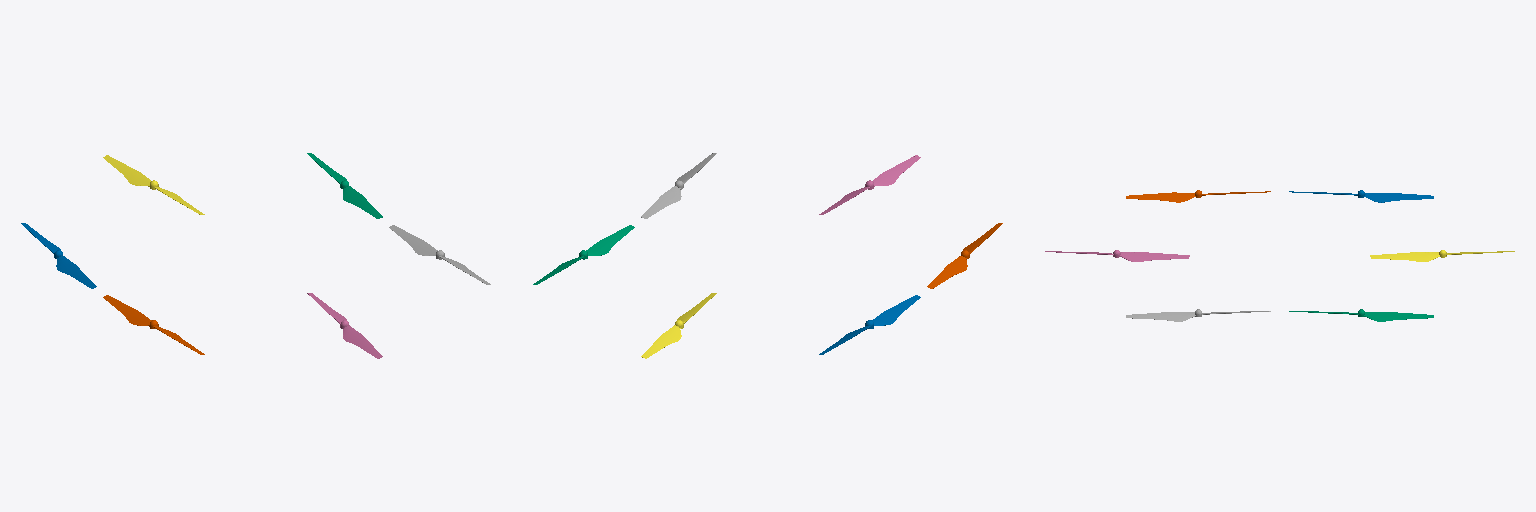
robot.urdf — tyrion:
<?xml version="1.0" ?>
<!-- =================================================================================== -->
<!-- |    This document was autogenerated by xacro from tyrion.xacro                   | -->
<!-- |    EDITING THIS FILE BY HAND IS NOT RECOMMENDED                                 | -->
<!-- =================================================================================== -->
<!--
  Copyright 2015 Fadri Furrer, ASL, ETH Zurich, Switzerland
  Copyright 2015 Michael Burri, ASL, ETH Zurich, Switzerland
  Copyright 2015 Mina Kamel, ASL, ETH Zurich, Switzerland
  Copyright 2015 Janosch Nikolic, ASL, ETH Zurich, Switzerland
  Copyright 2015 Markus Achtelik, ASL, ETH Zurich, Switzerland

  Licensed under the Apache License, Version 2.0 (the "License");
  you may not use this file except in compliance with the License.
  You may obtain a copy of the License at

  http://www.apache.org/licenses/LICENSE-2.0

  Unless required by applicable law or agreed to in writing, software
  distributed under the License is distributed on an "AS IS" BASIS,
  WITHOUT WARRANTIES OR CONDITIONS OF ANY KIND, either express or implied.
  See the License for the specific language governing permissions and
  limitations under the License.
-->
<robot name="tyrion">
  <!-- [kg] -->
  <!-- [m] JDS: original value="0.16"-->
  <!-- [kg] JDS: original value="0.005" -->
  <!-- [m] JDS: original value="0.215" -->
  <!-- [m] -->
  <!-- [rad/s] -->
  <link name="tyrion/base_link"/>
  <joint name="tyrion/base_joint" type="fixed">
    <origin rpy="0 0 0" xyz="0 0 0"/>
    <parent link="tyrion/base_link"/>
    <child link="tyrion/base_link_inertia"/>
  </joint>
  <link name="tyrion/base_link_inertia">
    <inertial>
      <mass value="1.5"/>
      <!-- [kg] -->
      <origin xyz="0 0 0"/>
      <inertia ixx="0.0347563" ixy="0.0" ixz="0.0" iyy="0.0458929" iyz="0.0" izz="0.0977"/>
    </inertial>
    <visual>
      <origin rpy="0 0 0" xyz="0 0 0"/>
      <geometry>
        <mesh filename="package://rotors_description/meshes/tyrion.dae" scale="1 1 1"/>
      </geometry>
    </visual>
    <collision>
      <origin rpy="0 0 0" xyz="0 0 0"/>
      <geometry>
        <box size="0.5 0.5 0.35"/>
        <!-- [m] [m] [m] JDS: original "${body_width} ${body_width} ${body_height}" -->
      </geometry>
    </collision>
  </link>
  <!-- attach multirotor_base_plugin to the base_link -->
  <gazebo>
    <plugin filename="librotors_gazebo_multirotor_base_plugin.so" name="multirotor_base_plugin">
      <robotNamespace>tyrion</robotNamespace>
      <linkName>tyrion/base_link</linkName>
      <rotorVelocitySlowdownSim>10</rotorVelocitySlowdownSim>
    </plugin>
  </gazebo>
  <joint name="tyrion/rotor_0_joint" type="continuous">
    <origin rpy="0 0 0" xyz="0.243353138463304 0.1405 0.05"/>
    <axis xyz="0 0 1"/>
    <!-- TODO(ff): not currently set because it's not yet supported -->
    <!-- <limit effort="2000" velocity="${max_rot_velocity}" /> -->
    <parent link="tyrion/base_link"/>
    <child link="tyrion/rotor_0"/>
  </joint>
  <link name="tyrion/rotor_0">
    <inertial>
      <mass value="0.0054"/>
      <!-- [kg] -->
      <inertia ixx="1.0529995788000002e-06" ixy="0.0" ixz="0.0" iyy="4.5040481983800015e-05" iyz="0.0" izz="4.601248159500002e-05"/>
    </inertial>
    <visual>
      <geometry>
        <mesh filename="package://rotors_description/meshes/propeller_ccw.dae" scale="0.1 0.1 0.1"/>
        <!-- The propeller meshes have a radius of 1m -->
        <!-- <box size="${2*radius_rotor} 0.01 0.005"/> -->
      </geometry>
    </visual>
    <collision>
      <geometry>
        <cylinder length="0.005" radius="0.1"/>
        <!-- [m] -->
      </geometry>
    </collision>
  </link>
  <gazebo>
    <plugin filename="librotors_gazebo_motor_model.so" name="tyrion_front_left_motor_model">
      <robotNamespace>tyrion</robotNamespace>
      <jointName>tyrion/rotor_0_joint</jointName>
      <linkName>tyrion/rotor_0</linkName>
      <turningDirection>ccw</turningDirection>
      <timeConstantUp>0.0125</timeConstantUp>
      <timeConstantDown>0.025</timeConstantDown>
      <maxRotVelocity>838</maxRotVelocity>
      <motorConstant>8.54858e-06</motorConstant>
      <momentConstant>0.016</momentConstant>
      <commandSubTopic>gazebo/command/motor_speed</commandSubTopic>
      <motorNumber>0</motorNumber>
      <rotorDragCoefficient>8.06428e-05</rotorDragCoefficient>
      <rollingMomentCoefficient>1e-06</rollingMomentCoefficient>
      <motorSpeedPubTopic>motor_speed/0</motorSpeedPubTopic>
      <rotorVelocitySlowdownSim>10</rotorVelocitySlowdownSim>
    </plugin>
  </gazebo>
  <gazebo reference="tyrion/rotor_0">
    <material>Gazebo/Red</material>
  </gazebo>
  <joint name="tyrion/rotor_1_joint" type="continuous">
    <origin rpy="0 0 0" xyz="0 0.281 0.05"/>
    <axis xyz="0 0 1"/>
    <!-- TODO(ff): not currently set because it's not yet supported -->
    <!-- <limit effort="2000" velocity="${max_rot_velocity}" /> -->
    <parent link="tyrion/base_link"/>
    <child link="tyrion/rotor_1"/>
  </joint>
  <link name="tyrion/rotor_1">
    <inertial>
      <mass value="0.0054"/>
      <!-- [kg] -->
      <inertia ixx="1.0529995788000002e-06" ixy="0.0" ixz="0.0" iyy="4.5040481983800015e-05" iyz="0.0" izz="4.601248159500002e-05"/>
    </inertial>
    <visual>
      <geometry>
        <mesh filename="package://rotors_description/meshes/propeller_cw.dae" scale="0.1 0.1 0.1"/>
        <!-- The propeller meshes have a radius of 1m -->
        <!-- <box size="${2*radius_rotor} 0.01 0.005"/> -->
      </geometry>
    </visual>
    <collision>
      <geometry>
        <cylinder length="0.005" radius="0.1"/>
        <!-- [m] -->
      </geometry>
    </collision>
  </link>
  <gazebo>
    <plugin filename="librotors_gazebo_motor_model.so" name="tyrion_left_motor_model">
      <robotNamespace>tyrion</robotNamespace>
      <jointName>tyrion/rotor_1_joint</jointName>
      <linkName>tyrion/rotor_1</linkName>
      <turningDirection>cw</turningDirection>
      <timeConstantUp>0.0125</timeConstantUp>
      <timeConstantDown>0.025</timeConstantDown>
      <maxRotVelocity>838</maxRotVelocity>
      <motorConstant>8.54858e-06</motorConstant>
      <momentConstant>0.016</momentConstant>
      <commandSubTopic>gazebo/command/motor_speed</commandSubTopic>
      <motorNumber>1</motorNumber>
      <rotorDragCoefficient>8.06428e-05</rotorDragCoefficient>
      <rollingMomentCoefficient>1e-06</rollingMomentCoefficient>
      <motorSpeedPubTopic>motor_speed/1</motorSpeedPubTopic>
      <rotorVelocitySlowdownSim>10</rotorVelocitySlowdownSim>
    </plugin>
  </gazebo>
  <gazebo reference="tyrion/rotor_1">
    <material>Gazebo/Blue</material>
  </gazebo>
  <joint name="tyrion/rotor_2_joint" type="continuous">
    <origin rpy="0 0 0" xyz="-0.243353138463304 0.1405 0.05"/>
    <axis xyz="0 0 1"/>
    <!-- TODO(ff): not currently set because it's not yet supported -->
    <!-- <limit effort="2000" velocity="${max_rot_velocity}" /> -->
    <parent link="tyrion/base_link"/>
    <child link="tyrion/rotor_2"/>
  </joint>
  <link name="tyrion/rotor_2">
    <inertial>
      <mass value="0.0054"/>
      <!-- [kg] -->
      <inertia ixx="1.0529995788000002e-06" ixy="0.0" ixz="0.0" iyy="4.5040481983800015e-05" iyz="0.0" izz="4.601248159500002e-05"/>
    </inertial>
    <visual>
      <geometry>
        <mesh filename="package://rotors_description/meshes/propeller_ccw.dae" scale="0.1 0.1 0.1"/>
        <!-- The propeller meshes have a radius of 1m -->
        <!-- <box size="${2*radius_rotor} 0.01 0.005"/> -->
      </geometry>
    </visual>
    <collision>
      <geometry>
        <cylinder length="0.005" radius="0.1"/>
        <!-- [m] -->
      </geometry>
    </collision>
  </link>
  <gazebo>
    <plugin filename="librotors_gazebo_motor_model.so" name="tyrion_back_left_motor_model">
      <robotNamespace>tyrion</robotNamespace>
      <jointName>tyrion/rotor_2_joint</jointName>
      <linkName>tyrion/rotor_2</linkName>
      <turningDirection>ccw</turningDirection>
      <timeConstantUp>0.0125</timeConstantUp>
      <timeConstantDown>0.025</timeConstantDown>
      <maxRotVelocity>838</maxRotVelocity>
      <motorConstant>8.54858e-06</motorConstant>
      <momentConstant>0.016</momentConstant>
      <commandSubTopic>gazebo/command/motor_speed</commandSubTopic>
      <motorNumber>2</motorNumber>
      <rotorDragCoefficient>8.06428e-05</rotorDragCoefficient>
      <rollingMomentCoefficient>1e-06</rollingMomentCoefficient>
      <motorSpeedPubTopic>motor_speed/2</motorSpeedPubTopic>
      <rotorVelocitySlowdownSim>10</rotorVelocitySlowdownSim>
    </plugin>
  </gazebo>
  <gazebo reference="tyrion/rotor_2">
    <material>Gazebo/Blue</material>
  </gazebo>
  <joint name="tyrion/rotor_3_joint" type="continuous">
    <origin rpy="0 0 0" xyz="-0.243353138463304 -0.1405 0.05"/>
    <axis xyz="0 0 1"/>
    <!-- TODO(ff): not currently set because it's not yet supported -->
    <!-- <limit effort="2000" velocity="${max_rot_velocity}" /> -->
    <parent link="tyrion/base_link"/>
    <child link="tyrion/rotor_3"/>
  </joint>
  <link name="tyrion/rotor_3">
    <inertial>
      <mass value="0.0054"/>
      <!-- [kg] -->
      <inertia ixx="1.0529995788000002e-06" ixy="0.0" ixz="0.0" iyy="4.5040481983800015e-05" iyz="0.0" izz="4.601248159500002e-05"/>
    </inertial>
    <visual>
      <geometry>
        <mesh filename="package://rotors_description/meshes/propeller_cw.dae" scale="0.1 0.1 0.1"/>
        <!-- The propeller meshes have a radius of 1m -->
        <!-- <box size="${2*radius_rotor} 0.01 0.005"/> -->
      </geometry>
    </visual>
    <collision>
      <geometry>
        <cylinder length="0.005" radius="0.1"/>
        <!-- [m] -->
      </geometry>
    </collision>
  </link>
  <gazebo>
    <plugin filename="librotors_gazebo_motor_model.so" name="tyrion_back_right_motor_model">
      <robotNamespace>tyrion</robotNamespace>
      <jointName>tyrion/rotor_3_joint</jointName>
      <linkName>tyrion/rotor_3</linkName>
      <turningDirection>cw</turningDirection>
      <timeConstantUp>0.0125</timeConstantUp>
      <timeConstantDown>0.025</timeConstantDown>
      <maxRotVelocity>838</maxRotVelocity>
      <motorConstant>8.54858e-06</motorConstant>
      <momentConstant>0.016</momentConstant>
      <commandSubTopic>gazebo/command/motor_speed</commandSubTopic>
      <motorNumber>3</motorNumber>
      <rotorDragCoefficient>8.06428e-05</rotorDragCoefficient>
      <rollingMomentCoefficient>1e-06</rollingMomentCoefficient>
      <motorSpeedPubTopic>motor_speed/3</motorSpeedPubTopic>
      <rotorVelocitySlowdownSim>10</rotorVelocitySlowdownSim>
    </plugin>
  </gazebo>
  <gazebo reference="tyrion/rotor_3">
    <material>Gazebo/Blue</material>
  </gazebo>
  <joint name="tyrion/rotor_4_joint" type="continuous">
    <origin rpy="0 0 0" xyz="0 -0.281 0.05"/>
    <axis xyz="0 0 1"/>
    <!-- TODO(ff): not currently set because it's not yet supported -->
    <!-- <limit effort="2000" velocity="${max_rot_velocity}" /> -->
    <parent link="tyrion/base_link"/>
    <child link="tyrion/rotor_4"/>
  </joint>
  <link name="tyrion/rotor_4">
    <inertial>
      <mass value="0.0054"/>
      <!-- [kg] -->
      <inertia ixx="1.0529995788000002e-06" ixy="0.0" ixz="0.0" iyy="4.5040481983800015e-05" iyz="0.0" izz="4.601248159500002e-05"/>
    </inertial>
    <visual>
      <geometry>
        <mesh filename="package://rotors_description/meshes/propeller_ccw.dae" scale="0.1 0.1 0.1"/>
        <!-- The propeller meshes have a radius of 1m -->
        <!-- <box size="${2*radius_rotor} 0.01 0.005"/> -->
      </geometry>
    </visual>
    <collision>
      <geometry>
        <cylinder length="0.005" radius="0.1"/>
        <!-- [m] -->
      </geometry>
    </collision>
  </link>
  <gazebo>
    <plugin filename="librotors_gazebo_motor_model.so" name="tyrion_right_motor_model">
      <robotNamespace>tyrion</robotNamespace>
      <jointName>tyrion/rotor_4_joint</jointName>
      <linkName>tyrion/rotor_4</linkName>
      <turningDirection>ccw</turningDirection>
      <timeConstantUp>0.0125</timeConstantUp>
      <timeConstantDown>0.025</timeConstantDown>
      <maxRotVelocity>838</maxRotVelocity>
      <motorConstant>8.54858e-06</motorConstant>
      <momentConstant>0.016</momentConstant>
      <commandSubTopic>gazebo/command/motor_speed</commandSubTopic>
      <motorNumber>4</motorNumber>
      <rotorDragCoefficient>8.06428e-05</rotorDragCoefficient>
      <rollingMomentCoefficient>1e-06</rollingMomentCoefficient>
      <motorSpeedPubTopic>motor_speed/4</motorSpeedPubTopic>
      <rotorVelocitySlowdownSim>10</rotorVelocitySlowdownSim>
    </plugin>
  </gazebo>
  <gazebo reference="tyrion/rotor_4">
    <material>Gazebo/Blue</material>
  </gazebo>
  <joint name="tyrion/rotor_5_joint" type="continuous">
    <origin rpy="0 0 0" xyz="0.243353138463304 -0.1405 0.05"/>
    <axis xyz="0 0 1"/>
    <!-- TODO(ff): not currently set because it's not yet supported -->
    <!-- <limit effort="2000" velocity="${max_rot_velocity}" /> -->
    <parent link="tyrion/base_link"/>
    <child link="tyrion/rotor_5"/>
  </joint>
  <link name="tyrion/rotor_5">
    <inertial>
      <mass value="0.0054"/>
      <!-- [kg] -->
      <inertia ixx="1.0529995788000002e-06" ixy="0.0" ixz="0.0" iyy="4.5040481983800015e-05" iyz="0.0" izz="4.601248159500002e-05"/>
    </inertial>
    <visual>
      <geometry>
        <mesh filename="package://rotors_description/meshes/propeller_cw.dae" scale="0.1 0.1 0.1"/>
        <!-- The propeller meshes have a radius of 1m -->
        <!-- <box size="${2*radius_rotor} 0.01 0.005"/> -->
      </geometry>
    </visual>
    <collision>
      <geometry>
        <cylinder length="0.005" radius="0.1"/>
        <!-- [m] -->
      </geometry>
    </collision>
  </link>
  <gazebo>
    <plugin filename="librotors_gazebo_motor_model.so" name="tyrion_front_right_motor_model">
      <robotNamespace>tyrion</robotNamespace>
      <jointName>tyrion/rotor_5_joint</jointName>
      <linkName>tyrion/rotor_5</linkName>
      <turningDirection>cw</turningDirection>
      <timeConstantUp>0.0125</timeConstantUp>
      <timeConstantDown>0.025</timeConstantDown>
      <maxRotVelocity>838</maxRotVelocity>
      <motorConstant>8.54858e-06</motorConstant>
      <momentConstant>0.016</momentConstant>
      <commandSubTopic>gazebo/command/motor_speed</commandSubTopic>
      <motorNumber>5</motorNumber>
      <rotorDragCoefficient>8.06428e-05</rotorDragCoefficient>
      <rollingMomentCoefficient>1e-06</rollingMomentCoefficient>
      <motorSpeedPubTopic>motor_speed/5</motorSpeedPubTopic>
      <rotorVelocitySlowdownSim>10</rotorVelocitySlowdownSim>
    </plugin>
  </gazebo>
  <gazebo reference="tyrion/rotor_5">
    <material>Gazebo/Red</material>
  </gazebo>
</robot>

--- Render facts (derived) ---
The picture shows the robot from 3 angles, left to right: view 1: azimuth 30°, elevation 25°; view 2: azimuth 150°, elevation 25°; view 3: azimuth 270°, elevation 25°; orthographic projection.
Robot: tyrion — 8 links, 7 joints (6 continuous, 1 fixed); root link tyrion/base_link; default pose: all joints at 0.
Visible links, largest first — view 1: tyrion/rotor_1, tyrion/rotor_3, tyrion/rotor_5, tyrion/rotor_0, tyrion/rotor_2, tyrion/rotor_4; view 2: tyrion/rotor_2, tyrion/rotor_0, tyrion/rotor_4, tyrion/rotor_5, tyrion/rotor_3, tyrion/rotor_1; view 3: tyrion/rotor_4, tyrion/rotor_1, tyrion/rotor_0, tyrion/rotor_5, tyrion/rotor_3, tyrion/rotor_2.
Boxes of the visible links, <box> form: tyrion/rotor_1: <box>103,155,204,214</box>; tyrion/rotor_3: <box>103,295,204,354</box>; tyrion/rotor_5: <box>389,225,490,284</box>; tyrion/rotor_0: <box>307,153,382,218</box>; tyrion/rotor_2: <box>21,223,96,288</box>; tyrion/rotor_4: <box>307,293,382,358</box>; tyrion/rotor_2: <box>819,295,920,354</box>; tyrion/rotor_0: <box>533,225,634,284</box>; tyrion/rotor_4: <box>819,155,920,214</box>; tyrion/rotor_5: <box>641,153,716,218</box>; tyrion/rotor_3: <box>927,223,1002,288</box>; tyrion/rotor_1: <box>641,293,716,358</box>; tyrion/rotor_4: <box>1045,250,1189,261</box>; tyrion/rotor_1: <box>1370,250,1514,261</box>; tyrion/rotor_0: <box>1289,309,1433,321</box>; tyrion/rotor_5: <box>1126,309,1270,321</box>; tyrion/rotor_3: <box>1126,190,1270,202</box>; tyrion/rotor_2: <box>1289,190,1433,202</box>.
Size in the robot's own frame: 0.5274 by 0.8124 by 0.0141 metres.
Meshes: 3 distinct files referenced, 6 mesh visuals loaded (2 Collada DAE); not drawn: 1 (reference not matched to a file when rendering).
